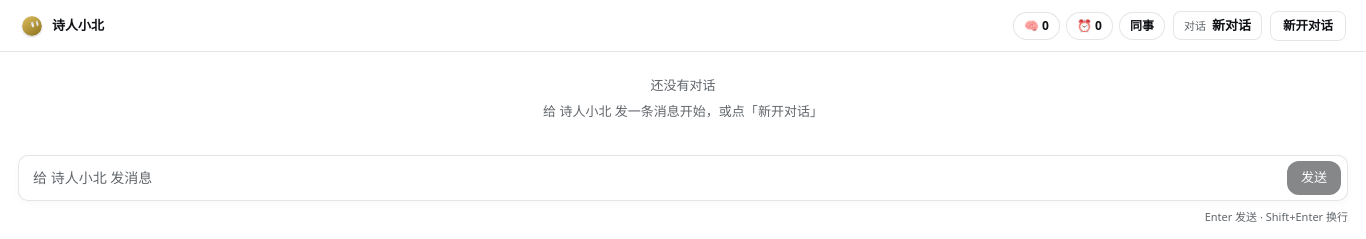
Conversation › creates a session then prompts, showing a pending user bubble
The image size is (1366, 239).
Type "你是谁?" into the text box with test id "composer-input" at (654, 178), box [25,160,1283,196]
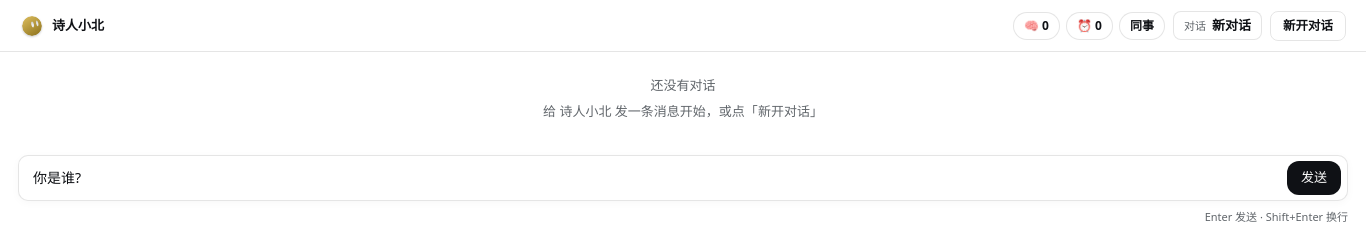
Click the button with test id "composer-send" at (1314, 178), box [1287,161,1341,195]
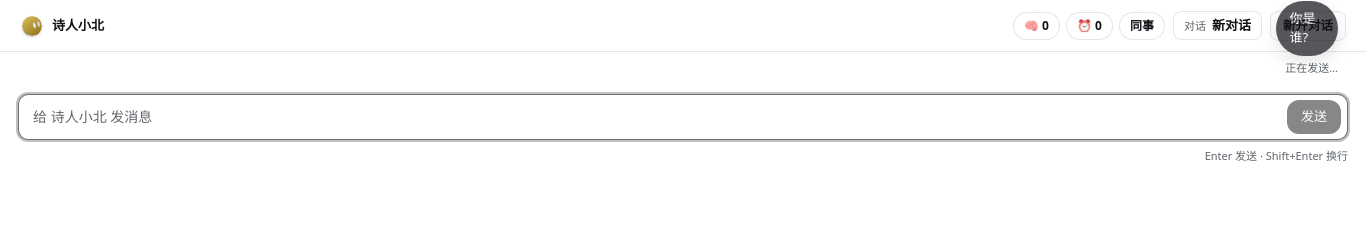
Check: the text "你是谁?" is shown, box [1276,0,1338,56]
Check: the element with test id "transcript-pending" is shown, box [1265,0,1338,76]
